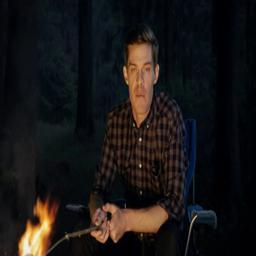fire: (18, 197, 59, 256)
